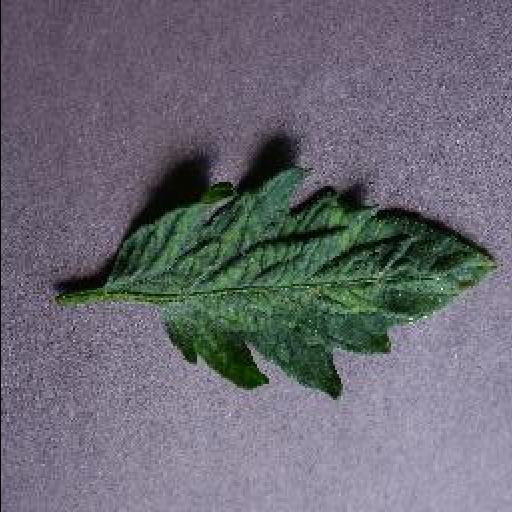disease_tomato: (107, 164, 501, 402)
